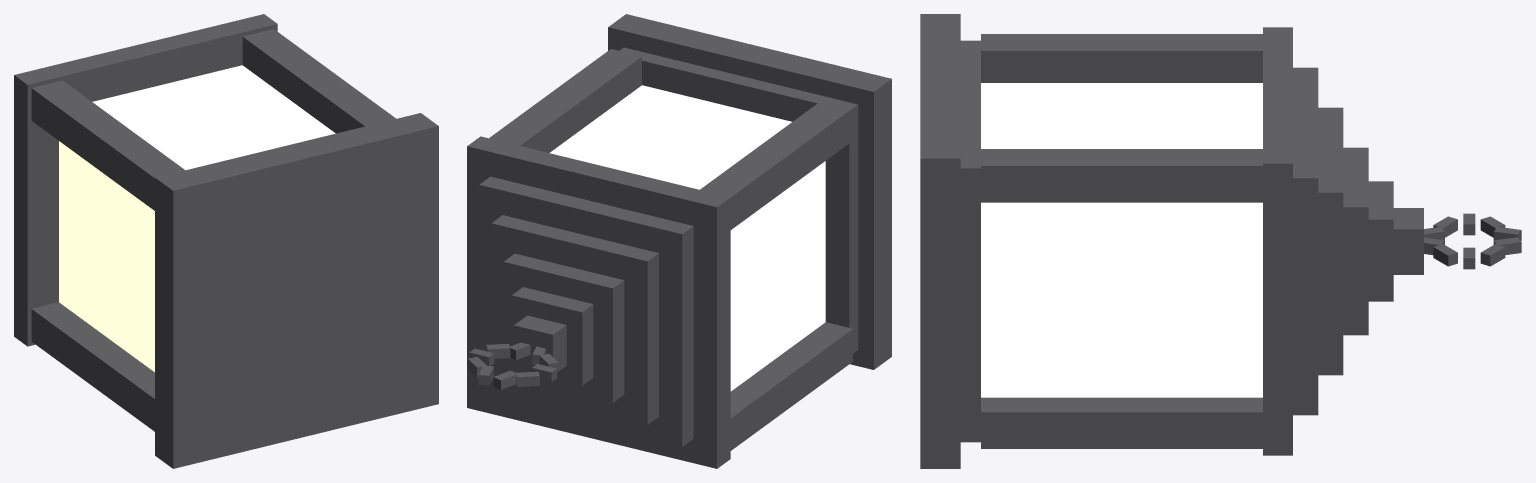
File: lantern_held.gltf
The picture shows the model from 3 angles, left to right: view 1: azimuth 30°, elevation 25°; view 2: azimuth 150°, elevation 25°; view 3: azimuth 270°, elevation 25°; orthographic projection. The views are drawn at different scales.
Parts seen in each view (by area): view 1: building_lantern_held; view 2: building_lantern_held; view 3: building_lantern_held.
Boxes of the visible parts, left/top/right/bottom form: building_lantern_held: left=14, top=14, right=438, bottom=468; building_lantern_held: left=467, top=14, right=891, bottom=468; building_lantern_held: left=920, top=14, right=1521, bottom=468.
Size of the model in its own units: 0.0544 by 0.0544 by 0.0955.
